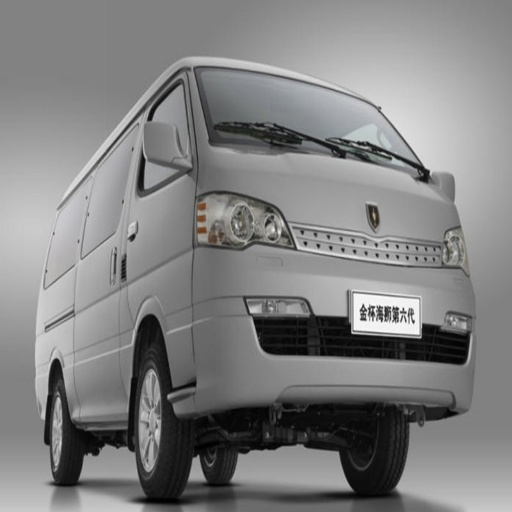front_bumper: (179, 254, 474, 415)
front_glass: (212, 69, 361, 148)
front_left_door: (75, 332, 116, 418)
front_right_door: (164, 68, 199, 216)
trunk: (234, 161, 429, 296), (127, 280, 183, 346)
